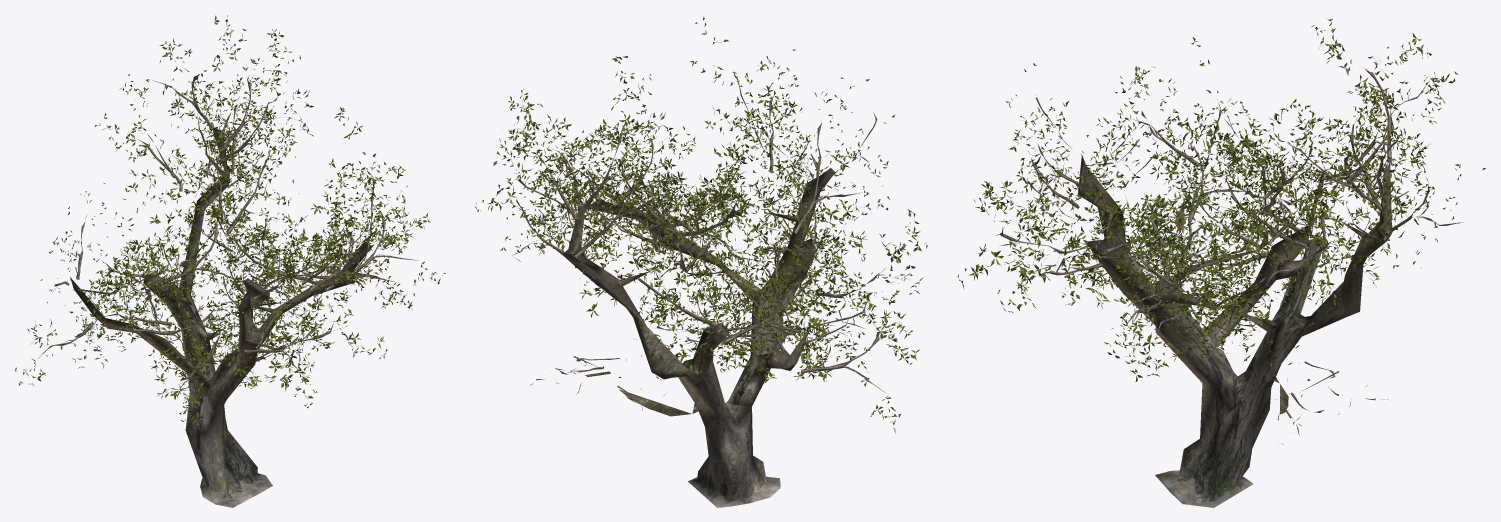
The model's file is island_tree_01_lod.glb.
3 views of the same model, side by side, from view 1: azimuth 30°, elevation 25°; view 2: azimuth 150°, elevation 25°; view 3: azimuth 270°, elevation 25° (orthographic). The views are drawn at different scales.
Parts seen in each view (by area): view 1: island_tree_01_LOD0; view 2: island_tree_01_LOD0; view 3: island_tree_01_LOD0.
Boxes of the visible parts, box(x1,y1,x2,y2) form: island_tree_01_LOD0: box(15, 15, 445, 507); island_tree_01_LOD0: box(474, 16, 927, 507); island_tree_01_LOD0: box(957, 19, 1485, 507).
Bounding box in the file's own units: 4.7 × 4.98 × 4.79.
Materials: 3 (3 with a texture image).
